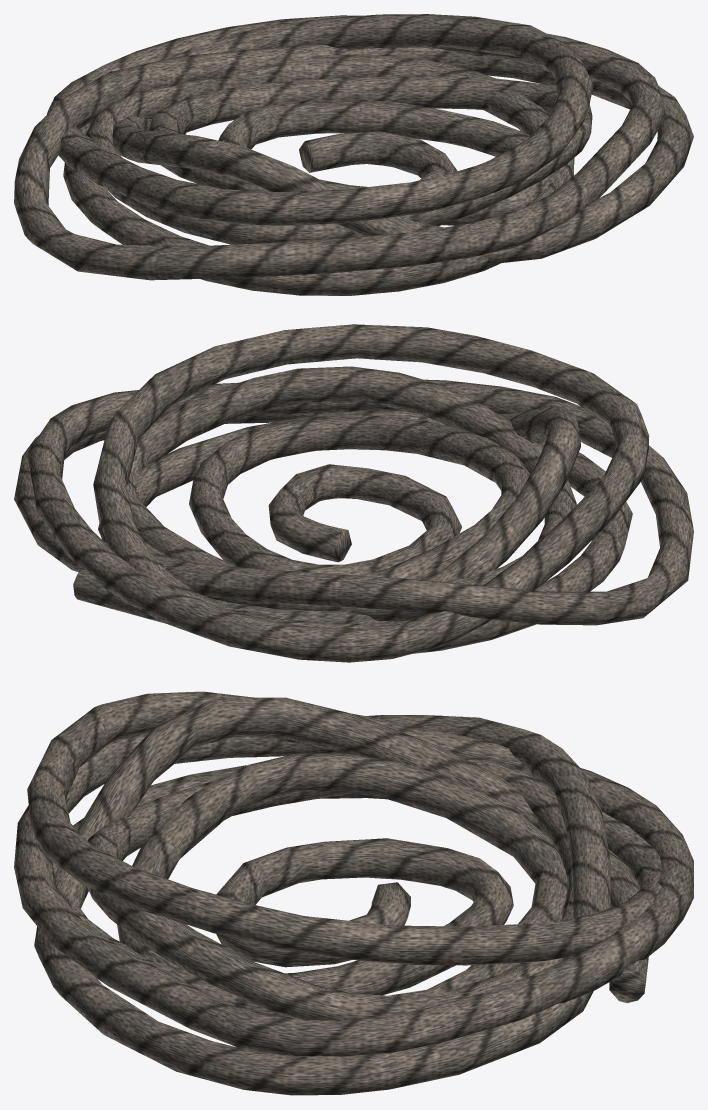
Rendered from SM_Rope_Bundle_02.fbx.
3 views of the same model, one above another, from view 1: azimuth 30°, elevation 25°; view 2: azimuth 150°, elevation 25°; view 3: azimuth 270°, elevation 25° (orthographic). The views are drawn at different scales.
Visible parts, largest first — view 1: SM_Rope_Bundle_02_LOD0; view 2: SM_Rope_Bundle_02_LOD0; view 3: SM_Rope_Bundle_02_LOD0.
Boxes of the visible parts, box(x1,y1,x2,y2) form: SM_Rope_Bundle_02_LOD0: box(14, 14, 693, 295); SM_Rope_Bundle_02_LOD0: box(14, 324, 693, 662); SM_Rope_Bundle_02_LOD0: box(14, 691, 693, 1095).
Size of the model in its own units: 88.62 by 72.41 by 15.66.
